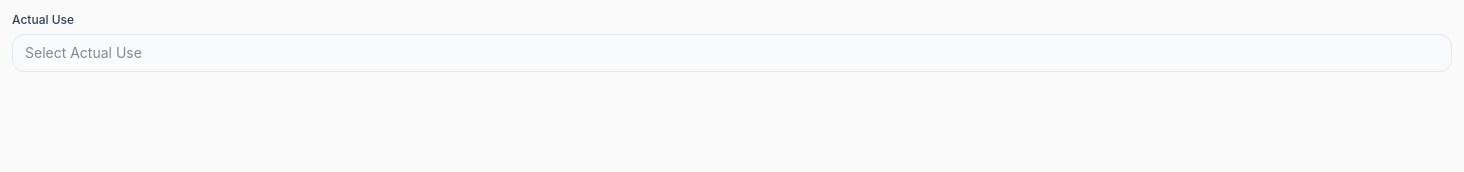
ActualUseSelect › renders empty state
The image size is (1464, 172).
Focus the field with test id "actual-use-input" at (732, 53), box [12,34,1452,72]
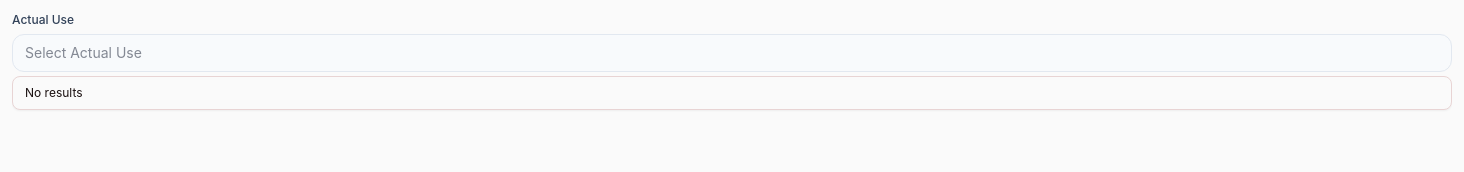
Check: the list with test id "actual-use-options" is shown, box [12,76,1452,110]
Check: the text "No results" is shown, box [25,85,83,100]
